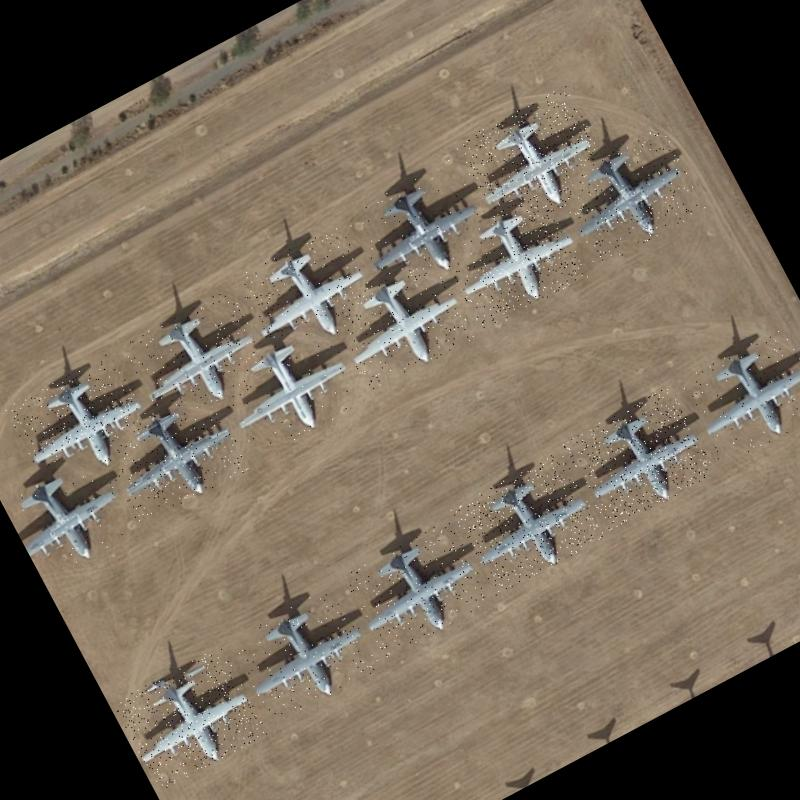A2: (454, 84, 615, 238), (208, 314, 366, 462), (343, 156, 500, 303), (4, 351, 160, 498), (112, 644, 268, 790), (561, 384, 716, 530), (450, 450, 606, 595), (550, 125, 706, 268), (228, 582, 382, 726), (96, 384, 250, 527), (120, 287, 274, 429), (233, 222, 384, 365), (341, 517, 493, 658), (325, 252, 476, 393), (439, 194, 589, 332), (0, 443, 138, 583), (677, 325, 800, 467)
